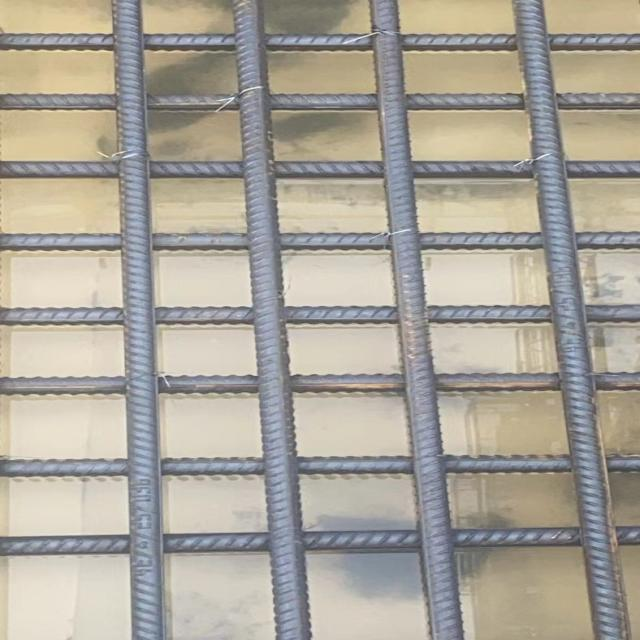ribbed bar: (511, 0, 624, 639), (368, 0, 467, 639), (235, 0, 312, 639), (112, 0, 163, 639), (0, 526, 638, 556), (0, 370, 638, 396), (0, 453, 638, 476), (0, 304, 638, 325), (0, 230, 638, 250), (0, 31, 638, 50), (0, 160, 638, 178), (0, 92, 638, 109)
